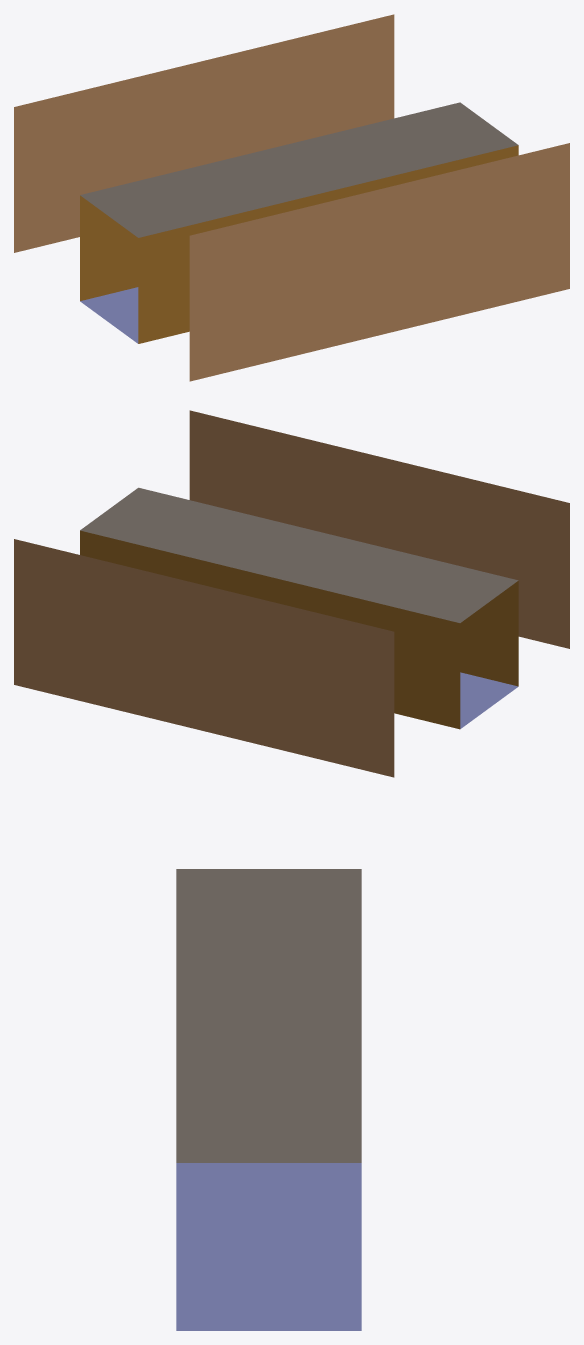
File: voices_corridor.dae
3 views of the same model, one above another, from view 1: azimuth 30°, elevation 25°; view 2: azimuth 150°, elevation 25°; view 3: azimuth 270°, elevation 25° (orthographic). The views are drawn at different scales.
Visible parts, largest first — view 1: $dummy_node (×4); view 2: $dummy_node (×4); view 3: $dummy_node (×2).
Part boxes in pixels (x1,y1,x2,y2): $dummy_node (×4): (14,14,569,381); $dummy_node (×4): (14,410,569,777); $dummy_node (×2): (176,869,361,1330).
Bounding box in the file's own units: 15 × 5.5 × 12.
